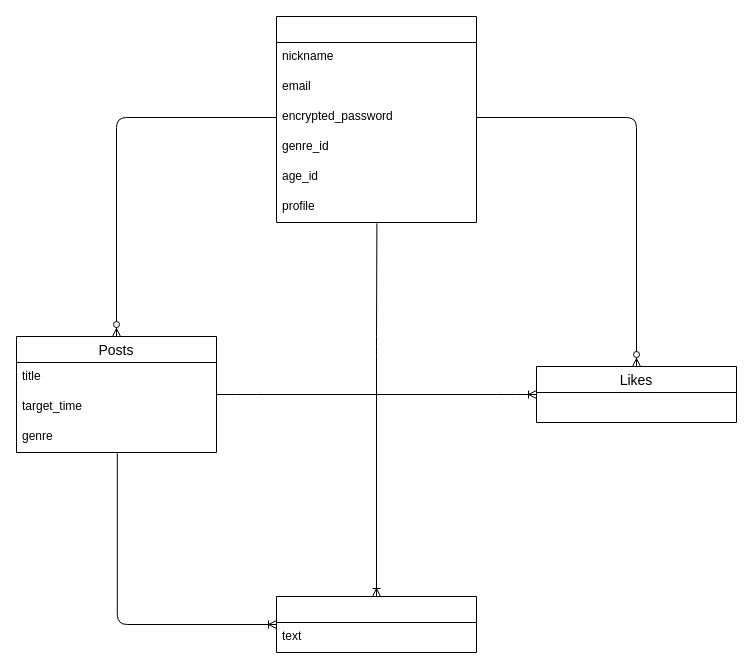
Some shapes in this 753 by 669 pixel diagram are drawn without their labels. The shapes that lost their labels are listed below. From the top down, each one's box as (x1, y1, x2, y2) in pixels, then its label:
(276, 16, 476, 222): Users
(276, 596, 476, 652): Comments
